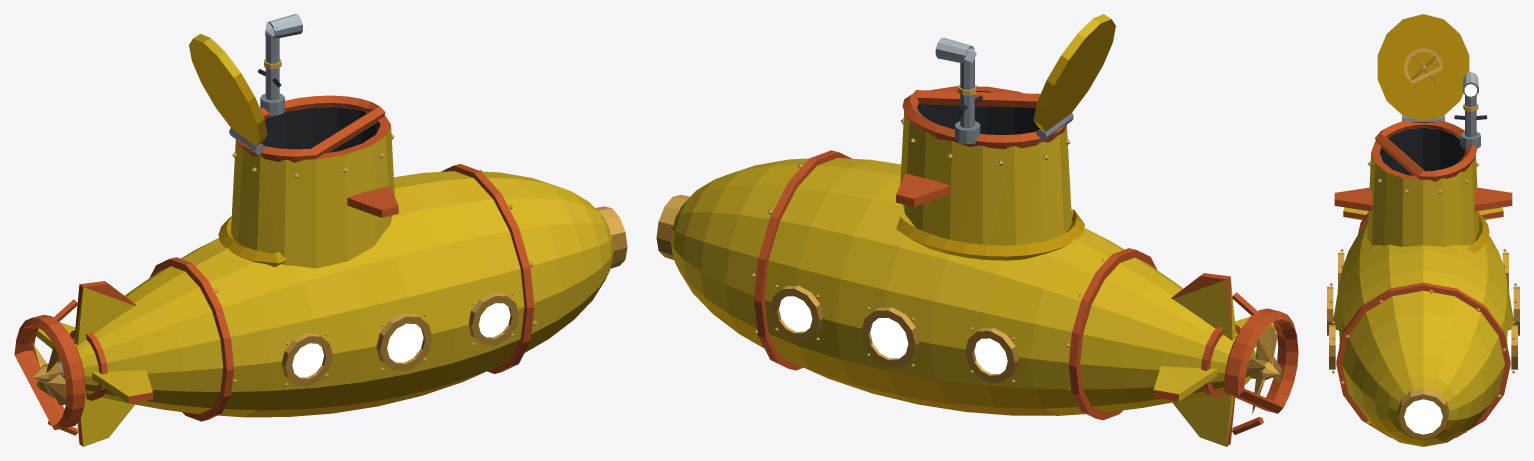
Rendered from mt_submarine_yellow.glb.
3 renders of one model, left to right at view 1: azimuth 30°, elevation 25°; view 2: azimuth 150°, elevation 25°; view 3: azimuth 270°, elevation 25°, orthographic. The views are drawn at different scales.
Parts seen in each view (by area): view 1: base, periscope_m, fins_m, prop_m; view 2: base, periscope_m, fins_m, prop_m; view 3: base, periscope_m, fins_m.
Part boxes in pixels (box(x1,y1,x2,y2)): base: box(14, 34, 627, 446); periscope_m: box(257, 14, 304, 115); fins_m: box(36, 322, 152, 403); prop_m: box(30, 342, 66, 405); base: box(656, 14, 1298, 446); periscope_m: box(934, 37, 983, 144); fins_m: box(1153, 316, 1275, 401); prop_m: box(1245, 324, 1282, 413); base: box(1327, 14, 1519, 446); periscope_m: box(1454, 72, 1487, 148); fins_m: box(1343, 207, 1503, 220).
Size of the model in its own units: 1.03 by 0.6694 by 0.3608.
